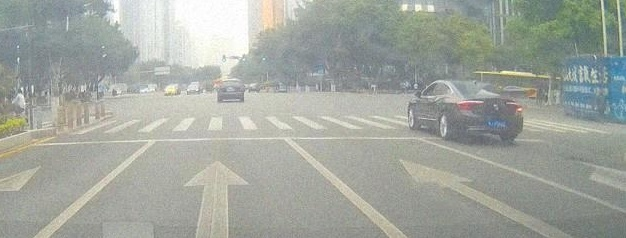L_light: (456, 100, 484, 111), (218, 87, 224, 91)
R_light: (506, 102, 522, 113), (239, 87, 244, 91)
T_light: (472, 84, 481, 86), (229, 80, 234, 82)
day-no: (217, 79, 245, 102)
day-right: (450, 81, 523, 139)
